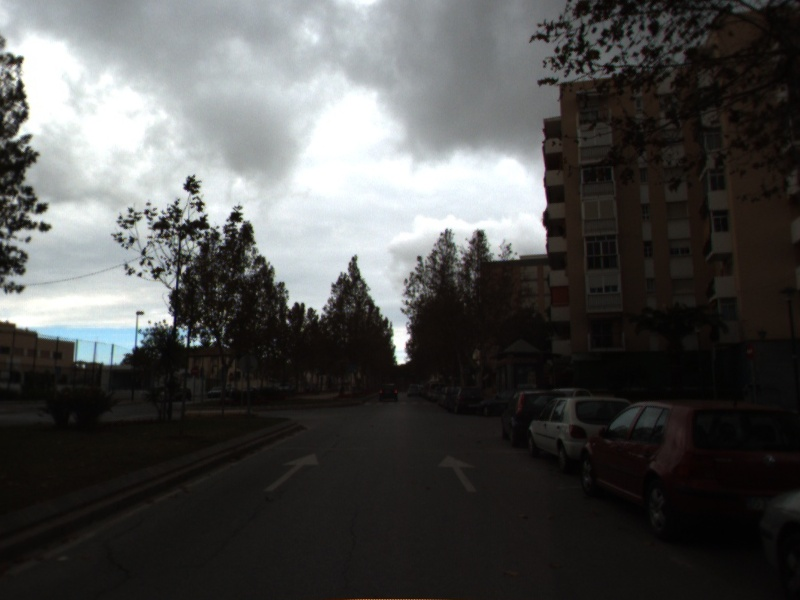STRAIGHT: (261, 451, 321, 494), (434, 451, 480, 495)
